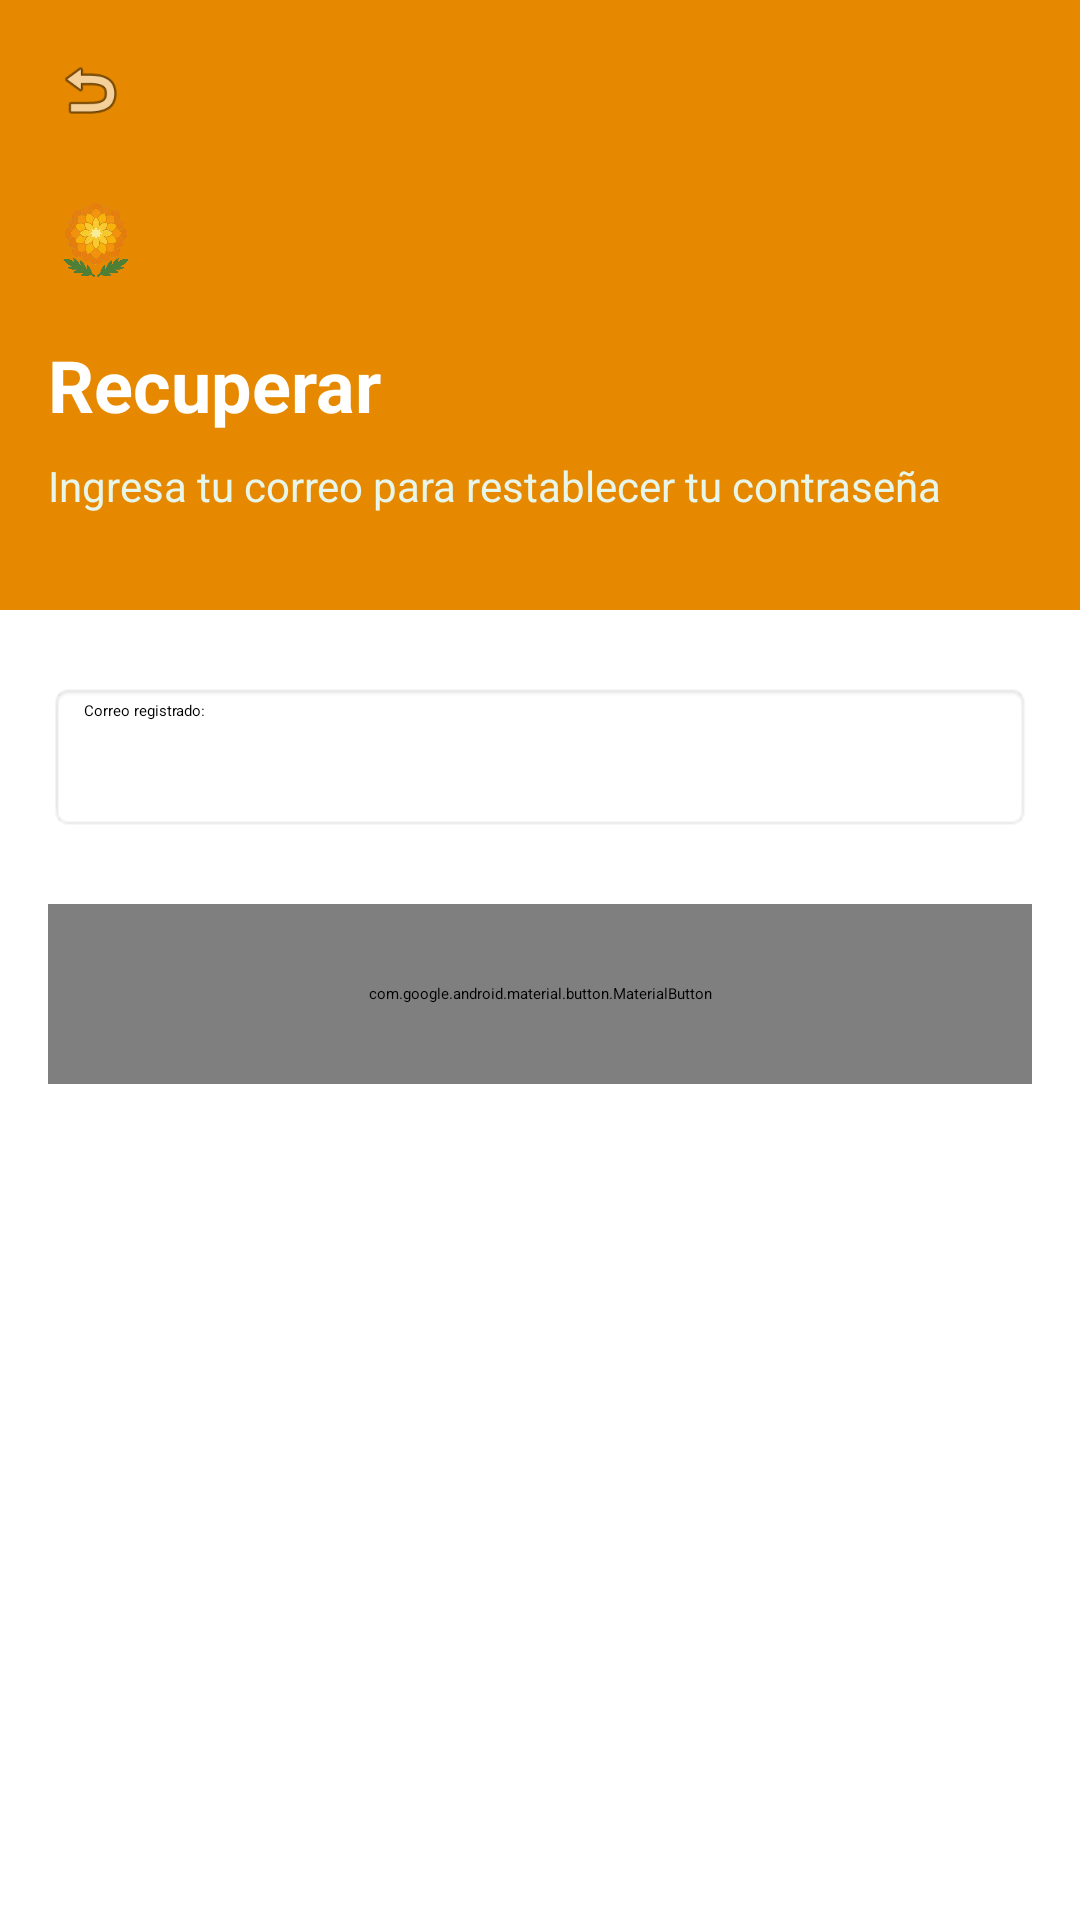

Icon bounding boxes for this 1080x1920 phone screenshot, format bbox(x1, y1, x2, y2):
flor: bbox(63, 203, 129, 277)
revert: bbox(65, 67, 117, 114)
